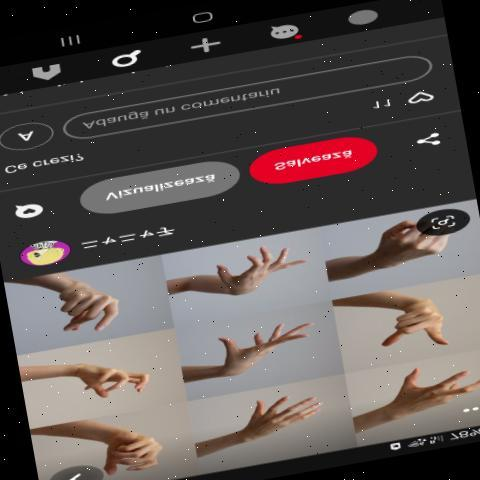Hands: (189, 315, 312, 396), (210, 386, 339, 461), (176, 243, 307, 309), (371, 282, 465, 356), (381, 363, 479, 427)
